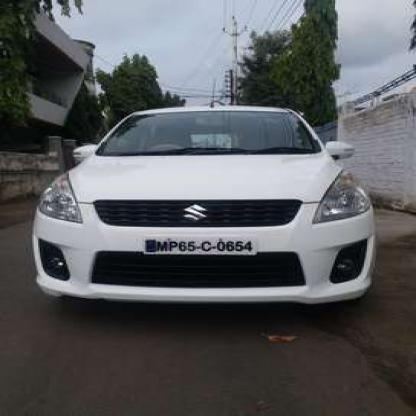license_plate: (141, 235, 254, 254)
